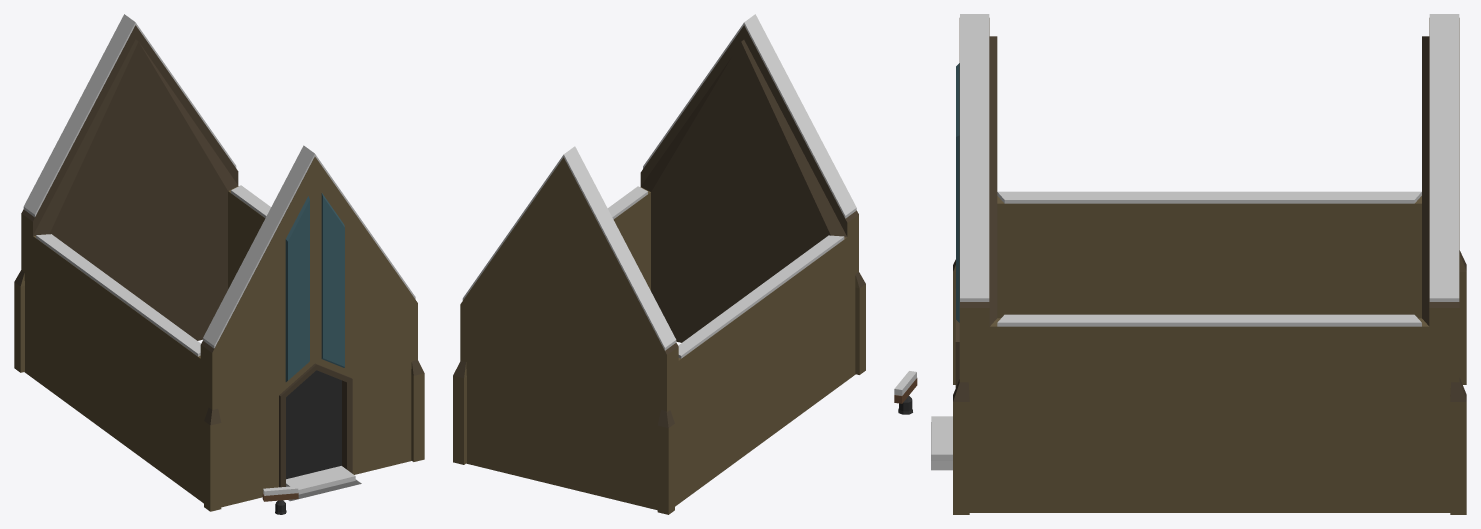
File: Church_build_snow_mat.fbx
3 views of the same model, side by side, from view 1: azimuth 30°, elevation 25°; view 2: azimuth 150°, elevation 25°; view 3: azimuth 270°, elevation 25° (orthographic). The views are drawn at different scales.
Parts seen in each view (by area): view 1: Church_build_snow_mat; view 2: Church_build_snow_mat; view 3: Church_build_snow_mat.
Part boxes in pixels (x1,y1,x2,y2): Church_build_snow_mat: (14,14,424,514); Church_build_snow_mat: (453,14,865,514); Church_build_snow_mat: (894,14,1466,514).
Size of the model in its own units: 416 by 614 by 736.
